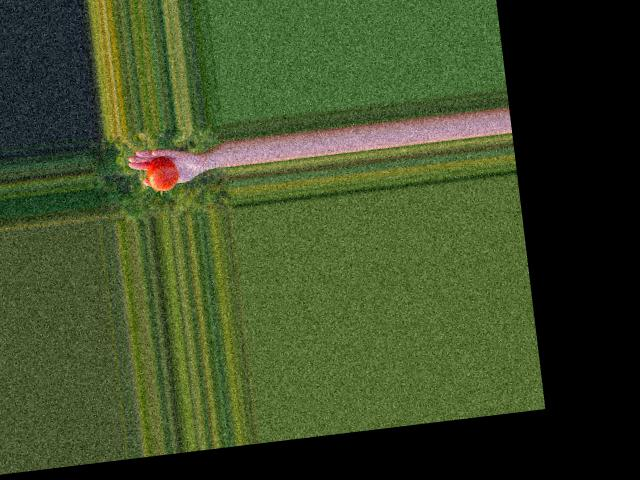tomato: (145, 154, 179, 191)
